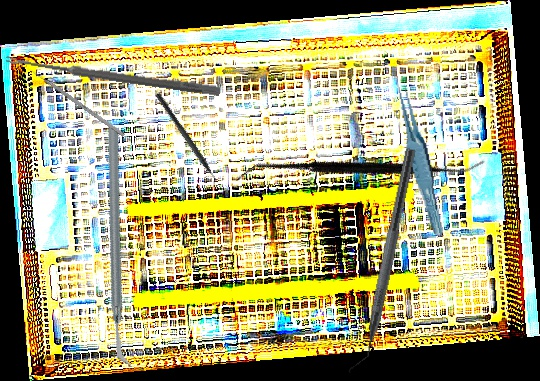Chopper: (27, 126, 213, 368), (346, 144, 416, 378), (148, 91, 224, 192)
Pusher: (24, 64, 126, 138)
Spatula Surgical: (235, 60, 487, 281)
Surgical Spoon: (5, 55, 221, 96)
Tissue Forceps: (394, 77, 445, 238)
